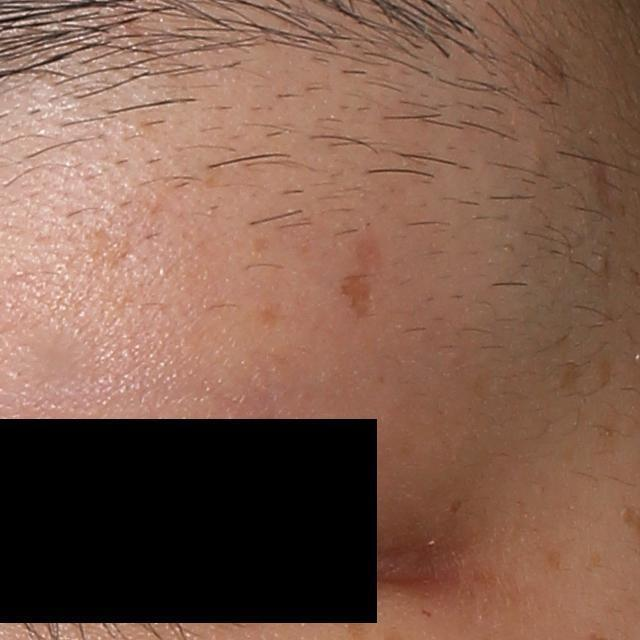melasma: (341, 274, 375, 324), (556, 359, 583, 393), (258, 299, 284, 332), (600, 360, 617, 390), (545, 547, 564, 570), (444, 496, 462, 517)
